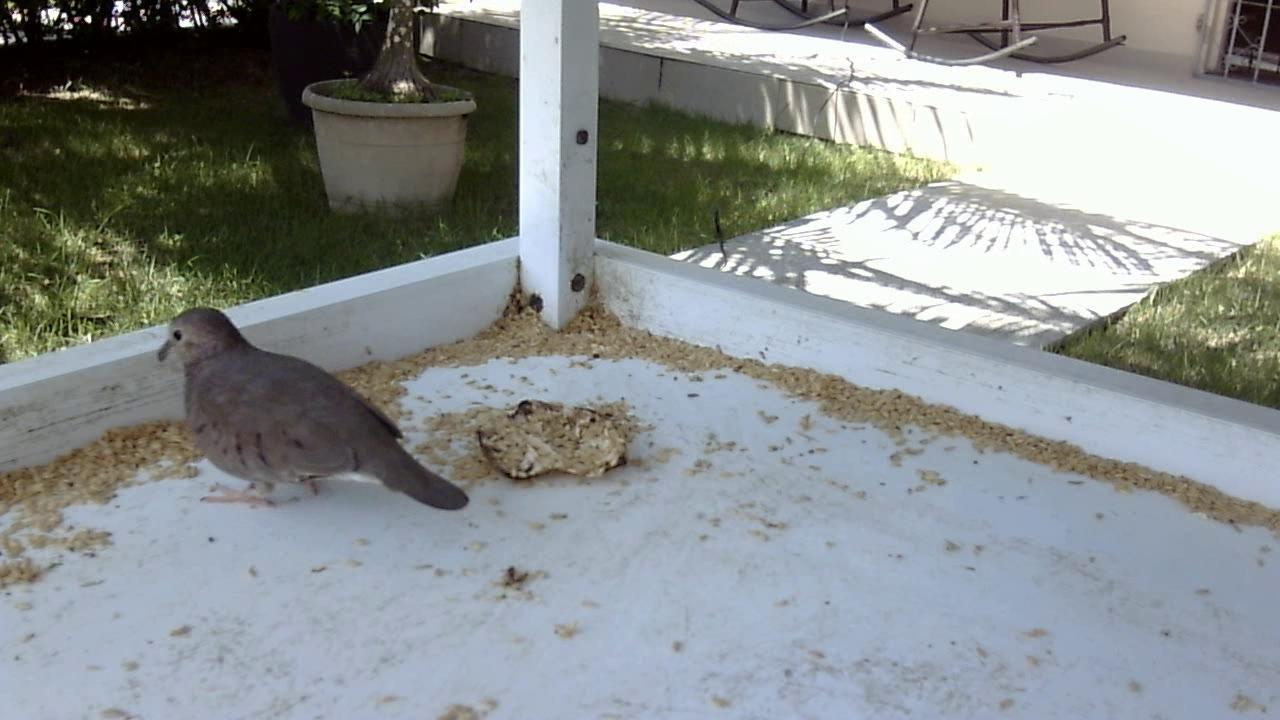rolinha: (151, 297, 471, 523)
